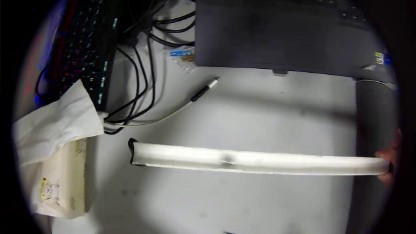gangzhu: (218, 153, 237, 167)
